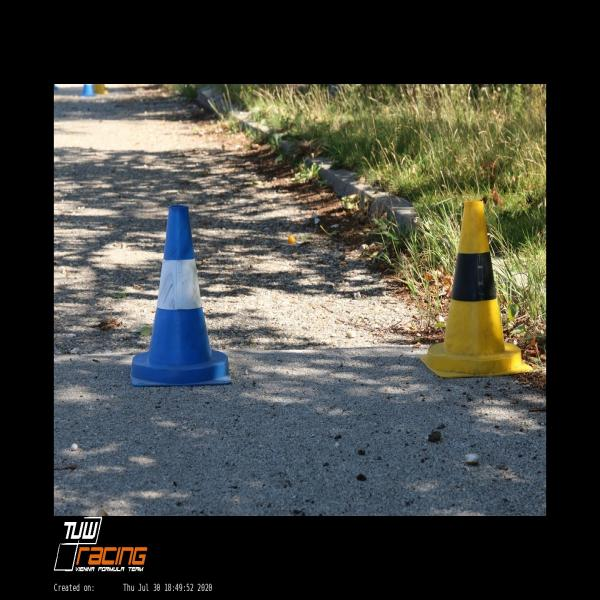blue_cone: (130, 206, 232, 385)
yellow_cone: (418, 201, 534, 378)
